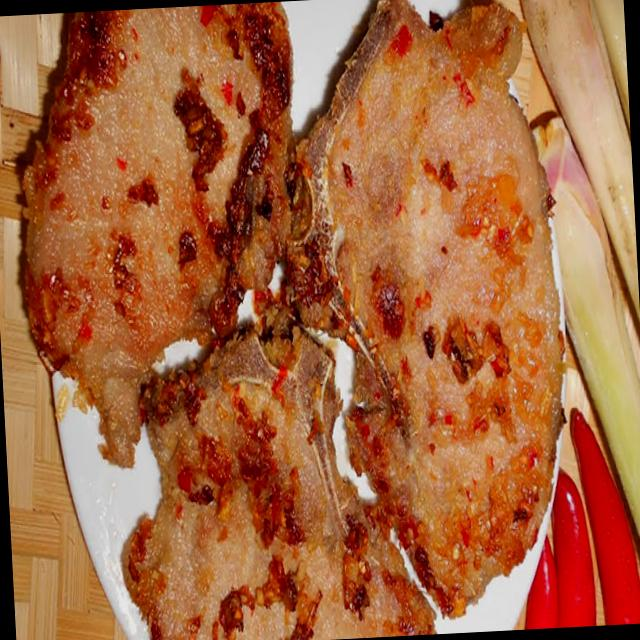thit chien: (286, 0, 562, 615), (23, 3, 293, 467), (123, 329, 434, 640)
